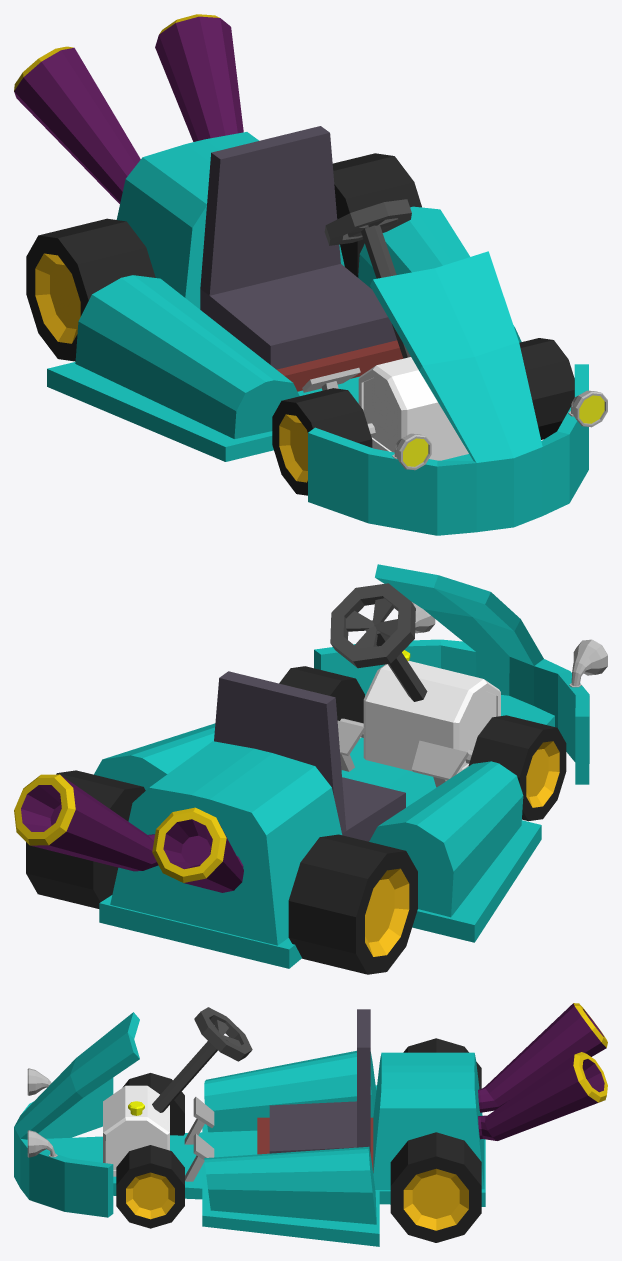
File: BlueMartinaKart.glb
The picture shows the model from 3 angles, top to bottom: view 1: azimuth 30°, elevation 25°; view 2: azimuth 150°, elevation 25°; view 3: azimuth 270°, elevation 25°; orthographic projection. The views are drawn at different scales.
Visible parts, largest first — view 1: KartPlataform1, Hood1, Chair1, Catalysts1, Wheel_BR, Wheel_FR, Wheel_BL, Wheel_FL, SteeringWheel1, Lights_Kart1, Pedals1; view 2: KartPlataform1, Hood1, Wheel_BR, Catalysts1, Chair1, SteeringWheel1, Wheel_FR, Wheel_BL, Pedals1, Wheel_FL, Lights_Kart1; view 3: KartPlataform1, Hood1, Catalysts1, Wheel_BL, Chair1, Wheel_FL, SteeringWheel1, Pedals1, Wheel_FR, Lights_Kart1, Wheel_BR.
Boxes of the visible parts, x1,y1,x2,y2 form: KartPlataform1: (47, 132, 521, 461); Hood1: (308, 251, 588, 535); Chair1: (200, 126, 403, 391); Catalysts1: (14, 14, 243, 203); Wheel_BR: (26, 218, 155, 361); Wheel_FR: (272, 388, 372, 495); Wheel_BL: (332, 153, 421, 277); Wheel_FL: (519, 338, 574, 439); SteeringWheel1: (324, 199, 411, 358); Lights_Kart1: (392, 390, 607, 470); Pedals1: (302, 367, 360, 392); KartPlataform1: (94, 650, 554, 968); Hood1: (314, 564, 589, 784); Wheel_BR: (288, 834, 417, 974); Catalysts1: (14, 774, 243, 892); Chair1: (214, 671, 405, 841); SteeringWheel1: (330, 583, 427, 701); Wheel_FR: (468, 715, 566, 821); Wheel_BL: (26, 770, 145, 908); Pedals1: (337, 720, 468, 787); Wheel_FL: (279, 666, 364, 723); Lights_Kart1: (412, 602, 607, 687); KartPlataform1: (45, 1050, 485, 1246); Hood1: (14, 1012, 139, 1217); Catalysts1: (478, 1003, 607, 1140); Wheel_BL: (390, 1132, 481, 1242); Chair1: (257, 1009, 373, 1172); Wheel_FL: (116, 1145, 184, 1228); SteeringWheel1: (152, 1007, 252, 1112); Pedals1: (184, 1097, 214, 1181); Wheel_FR: (122, 1073, 184, 1135); Lights_Kart1: (27, 1068, 57, 1157); Wheel_BR: (403, 1038, 481, 1089).
Size of the model in its own units: 10.53 by 5.62 by 17.74.
